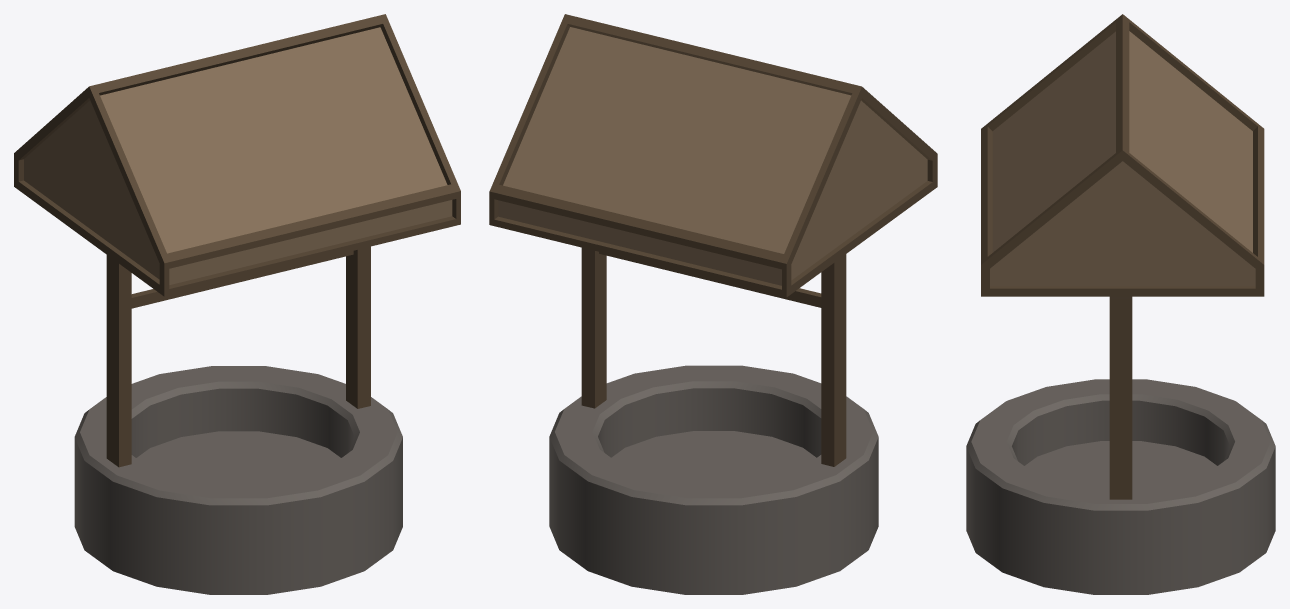
The model's file is Pozo 1.fbx.
3 views of the same model, side by side, from view 1: azimuth 30°, elevation 25°; view 2: azimuth 150°, elevation 25°; view 3: azimuth 270°, elevation 25° (orthographic). The views are drawn at different scales.
Visible parts, largest first — view 1: Pozo; view 2: Pozo; view 3: Pozo.
Part boxes in pixels (x1,y1,x2,y2): Pozo: (14, 14, 460, 594); Pozo: (489, 14, 937, 594); Pozo: (966, 14, 1275, 594).
Bounding box in the file's own units: 386 × 593 × 371.
